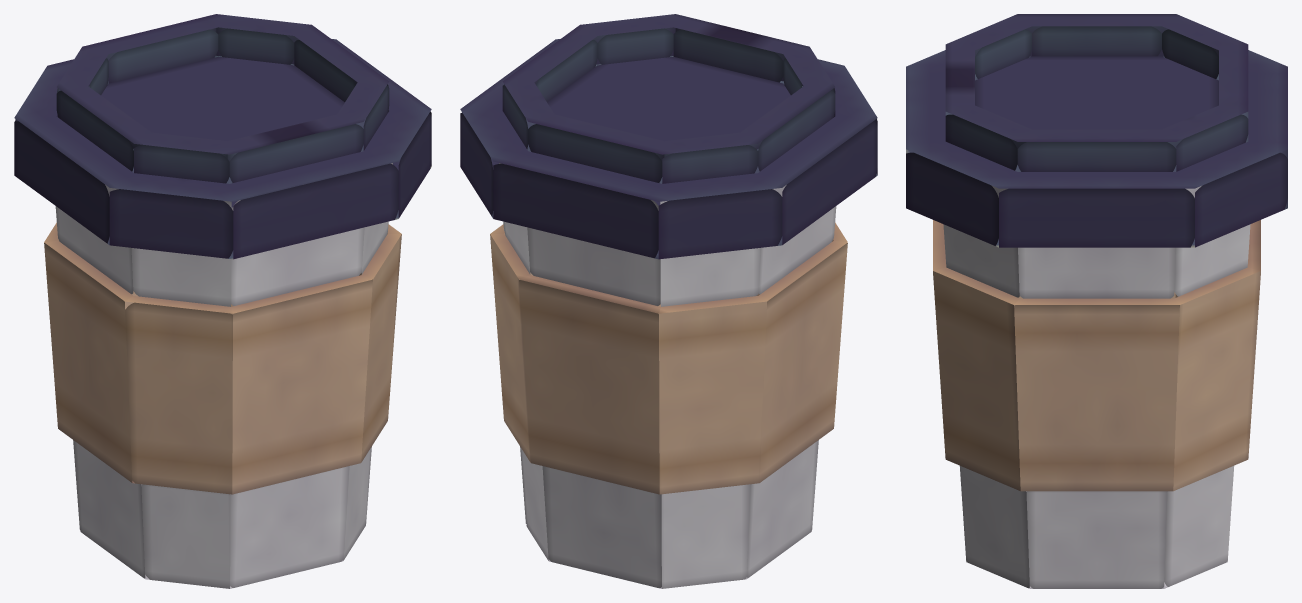
File: CoffeeCup.obj
3 renders of one model, left to right at view 1: azimuth 30°, elevation 25°; view 2: azimuth 150°, elevation 25°; view 3: azimuth 270°, elevation 25°, orthographic. The views are drawn at different scales.
Visible parts, largest first — view 1: Cup; view 2: Cup; view 3: Cup.
Boxes of the visible parts, box(x1,y1,x2,y2) form: Cup: box(14, 14, 431, 588); Cup: box(460, 14, 877, 588); Cup: box(906, 14, 1287, 588).
Size of the model in its own units: 0.292 by 0.3847 by 0.292.
Materials: 1 (1 with a texture image).
